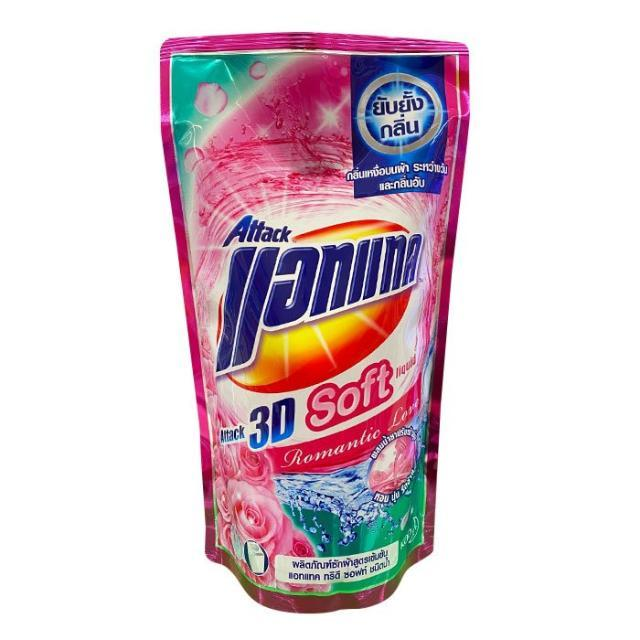Paquete de plastico: (158, 32, 472, 617)
